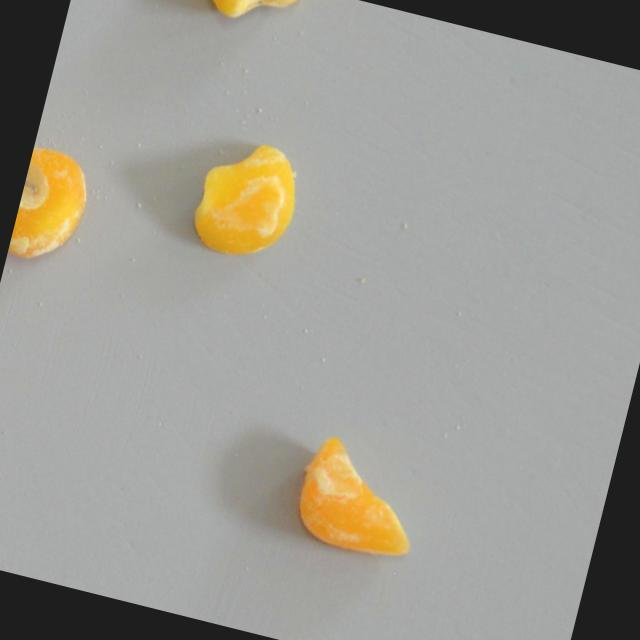dañado: (282, 424, 444, 577), (179, 124, 313, 274), (6, 138, 100, 274), (178, 0, 302, 36)
